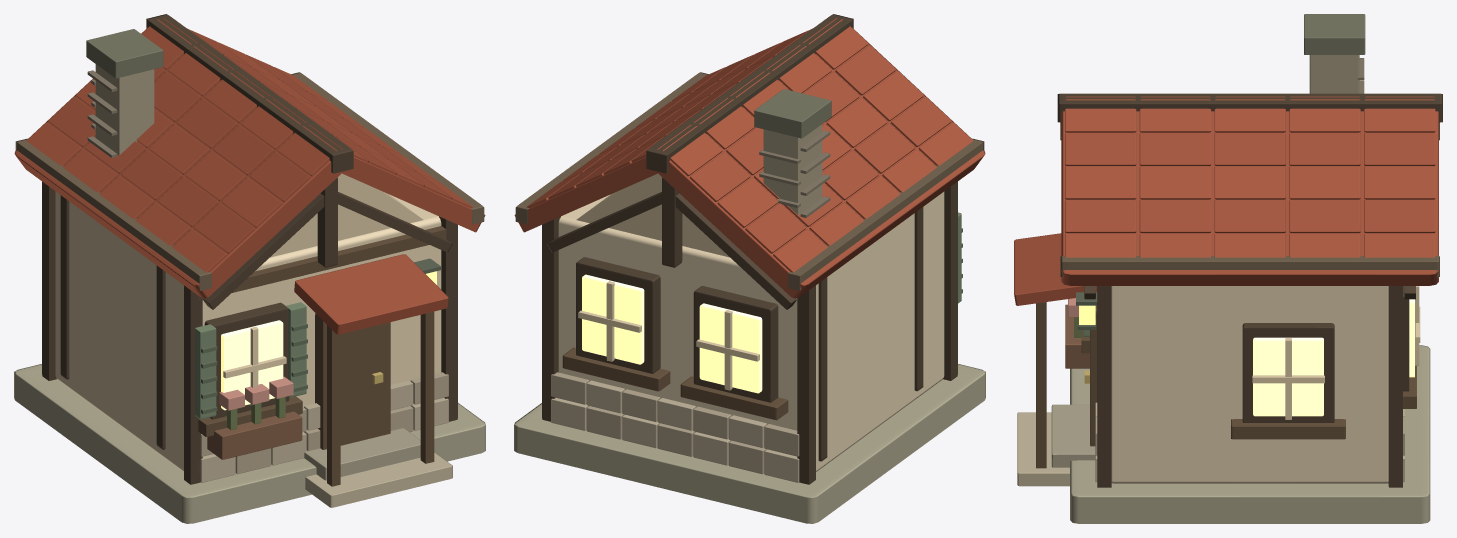
File: house-0.glb
3 views of the same model, side by side, from view 1: azimuth 30°, elevation 25°; view 2: azimuth 150°, elevation 25°; view 3: azimuth 270°, elevation 25° (orthographic). The views are drawn at different scales.
Parts seen in each view (by area): view 1: house-0-0; view 2: house-0-0; view 3: house-0-0.
Part boxes in pixels (x1,y1,x2,y2): house-0-0: (14, 14, 485, 523); house-0-0: (514, 14, 985, 523); house-0-0: (1014, 14, 1442, 523).
Bounding box in the file's own units: 1.88 × 2.19 × 2.24.
